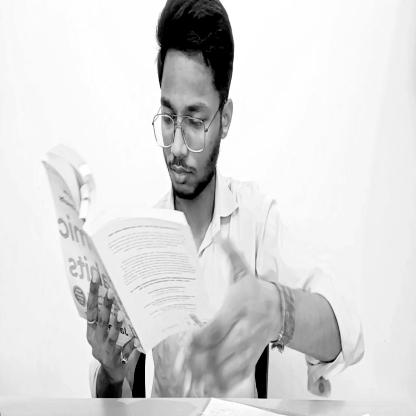Distracted: (152, 3, 240, 202)
